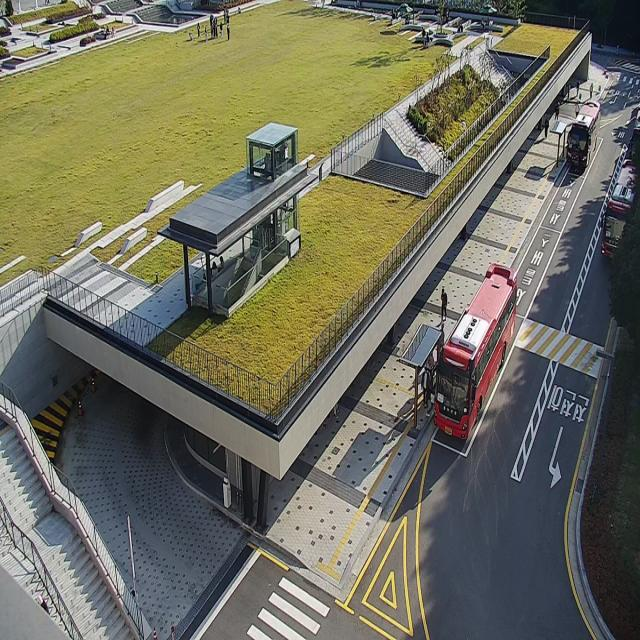queue: (416, 328, 446, 438)
